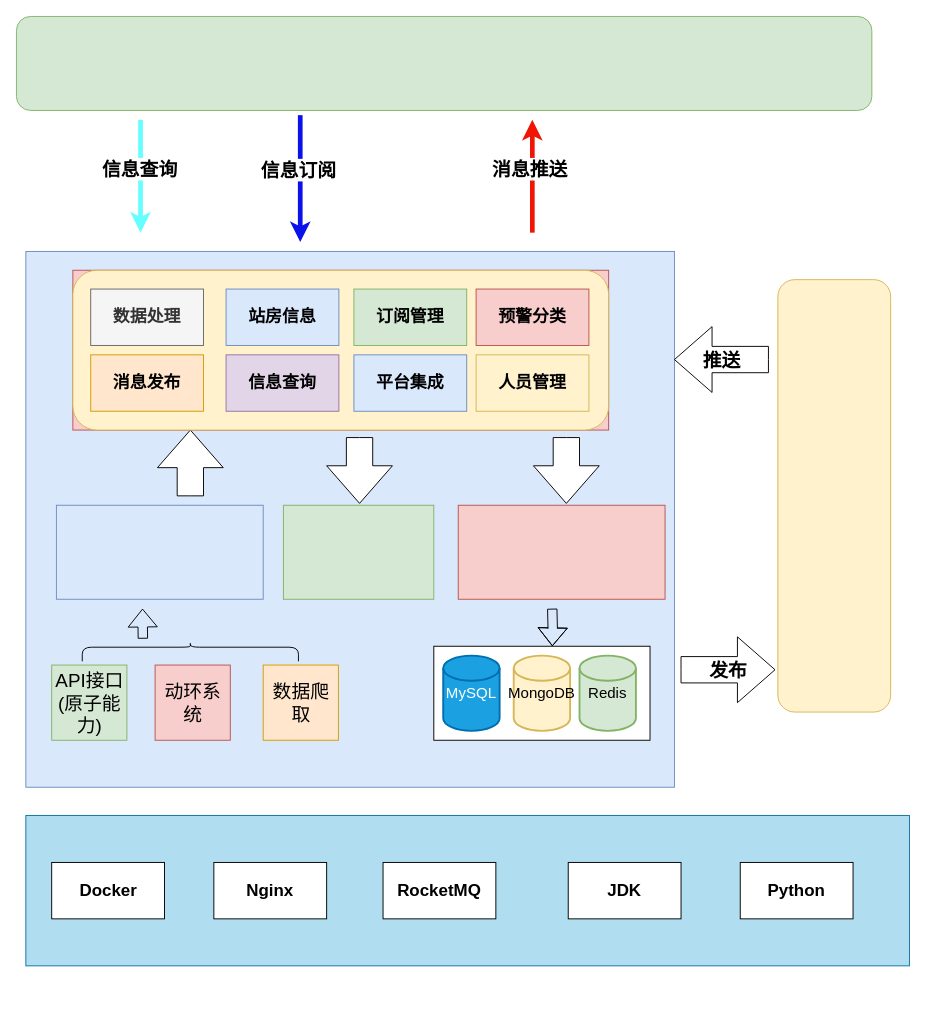
Some shapes in this 926 by 1010 pixel diagram are drawn without their labels. The shapes that lost their labels are listed below. From the top down, each one's box as (x1, y1, x2, y2) in pixels, then its label:
(16, 16, 872, 110): 钉钉、IM、邮件、短信、语音(原子能力)
(777, 279, 891, 712): 消息队列
(55, 504, 263, 599): 数据采集
(282, 504, 434, 599): 日志记录
(457, 504, 665, 599): 数据存储
(25, 815, 909, 966): CoentOS
